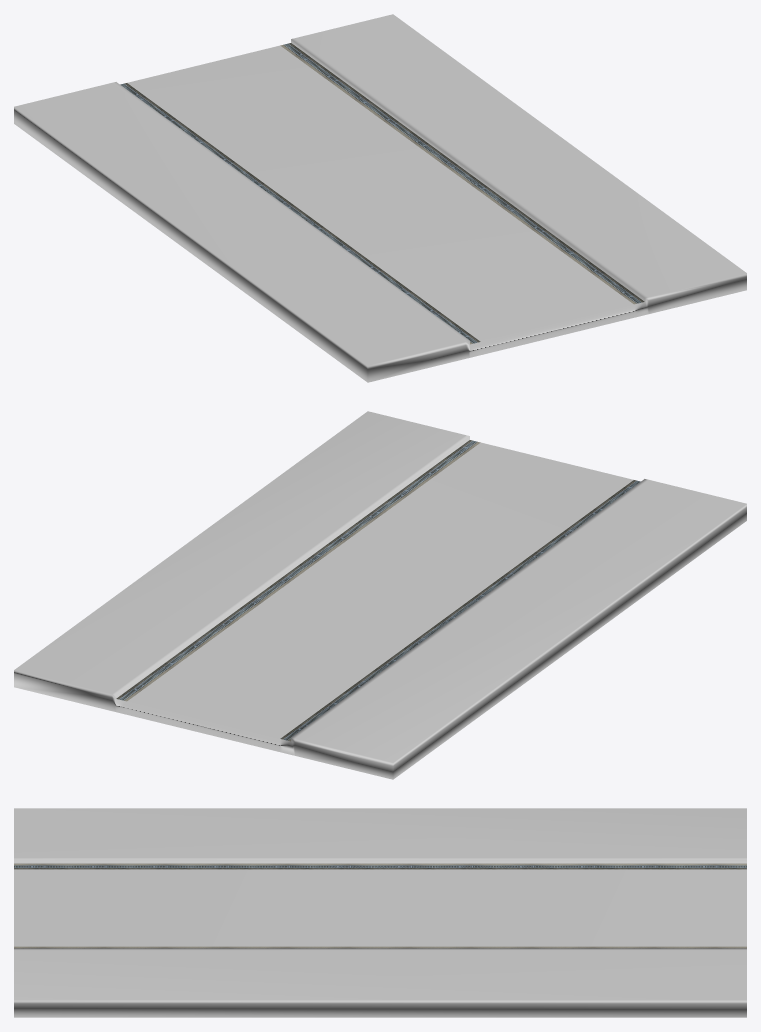
File: road.fbx
3 views of the same model, one above another, from view 1: azimuth 30°, elevation 25°; view 2: azimuth 150°, elevation 25°; view 3: azimuth 270°, elevation 25° (orthographic). The views are drawn at different scales.
Visible parts, largest first — view 1: Mesh; view 2: Mesh; view 3: Mesh.
Part boxes in pixels (x1,y1,x2,y2): Mesh: [14, 14, 746, 382]; Mesh: [14, 411, 746, 779]; Mesh: [14, 808, 746, 1017].
Bounding box in the file's own units: 1485 × 64 × 2400.
